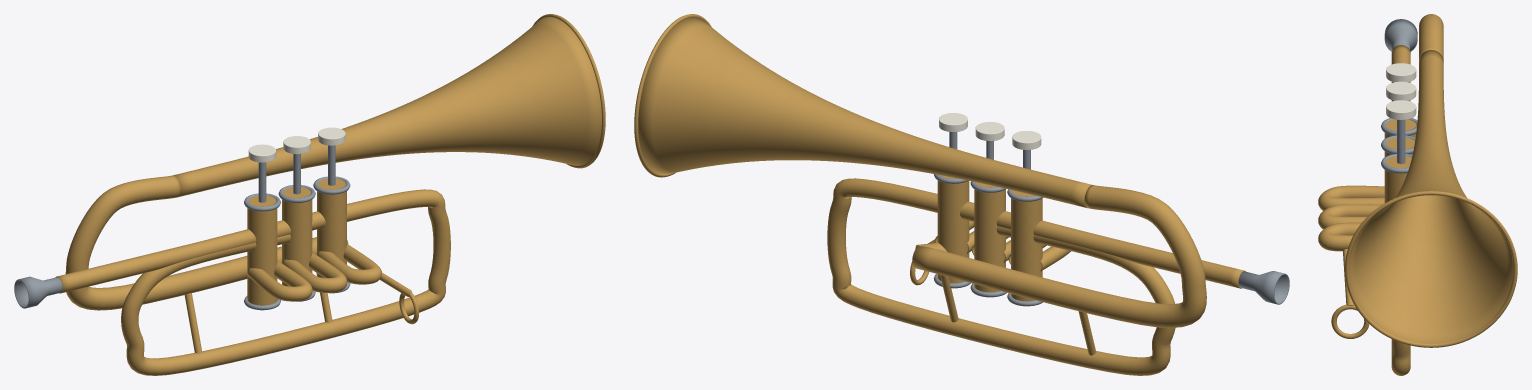
File: innerscene-trumpet.glb
3 renders of one model, left to right at view 1: azimuth 30°, elevation 25°; view 2: azimuth 150°, elevation 25°; view 3: azimuth 270°, elevation 25°, orthographic. The views are drawn at different scales.
Visible parts, largest first — view 1: Open trumpet bell, Continuous leadpipe and main tuning loop, Bell return tubing, Piston valve casing 1, Piston valve casing 3, Piston valve casing 2, Valve tuning branch 1, Valve tuning branch 3, Valve tuning branch 2, Mouthpiece cup, Open trumpet bell rolled rim, Tube brace; view 2: Open trumpet bell, Continuous leadpipe and main tuning loop, Bell return tubing, Piston valve casing 1, Piston valve casing 2, Piston valve casing 3, Mouthpiece cup, Open trumpet bell rolled rim; view 3: Open trumpet bell, Open trumpet bell rolled rim, Valve tuning branch 1, Continuous leadpipe and main tuning loop, Valve tuning branch 2, Bell return tubing, Valve tuning branch 3, Mouthpiece cup, Piston valve casing 3, Finger button.002, Finger button.001, Finger button (+8 smaller).
Boxes of the visible parts, x1,y1,x2,y2 form: Open trumpet bell: (173, 17, 601, 197); Continuous leadpipe and main tuning loop: (55, 189, 450, 375); Bell return tubing: (65, 175, 316, 310); Piston valve casing 1: (247, 195, 277, 305); Piston valve casing 3: (317, 178, 346, 277); Piston valve casing 2: (282, 187, 312, 286); Valve tuning branch 1: (247, 260, 312, 301); Valve tuning branch 3: (316, 244, 381, 284); Valve tuning branch 2: (282, 252, 347, 292); Mouthpiece cup: (14, 276, 62, 308); Open trumpet bell rolled rim: (532, 14, 605, 168); Tube brace: (184, 293, 202, 353); Open trumpet bell: (638, 17, 1091, 207); Continuous leadpipe and main tuning loop: (827, 178, 1245, 375); Bell return tubing: (912, 185, 1206, 327); Piston valve casing 1: (1011, 190, 1042, 301); Piston valve casing 2: (974, 182, 1005, 292); Piston valve casing 3: (937, 175, 969, 283); Mouthpiece cup: (1238, 271, 1289, 304); Open trumpet bell rolled rim: (634, 14, 711, 177); Open trumpet bell: (1349, 50, 1513, 343); Open trumpet bell rolled rim: (1345, 191, 1517, 347); Valve tuning branch 1: (1318, 185, 1384, 210); Continuous leadpipe and main tuning loop: (1391, 45, 1410, 375); Valve tuning branch 2: (1318, 204, 1381, 229); Bell return tubing: (1419, 14, 1443, 58); Valve tuning branch 3: (1318, 222, 1361, 251); Mouthpiece cup: (1384, 19, 1417, 51); Piston valve casing 3: (1384, 156, 1411, 202); Finger button.002: (1386, 100, 1416, 119); Finger button.001: (1386, 81, 1416, 100); Finger button: (1386, 63, 1416, 82).
Size of the model in its own units: 0.5156 by 0.2182 by 0.1457.
Materials: 3 (3 with a texture image).
